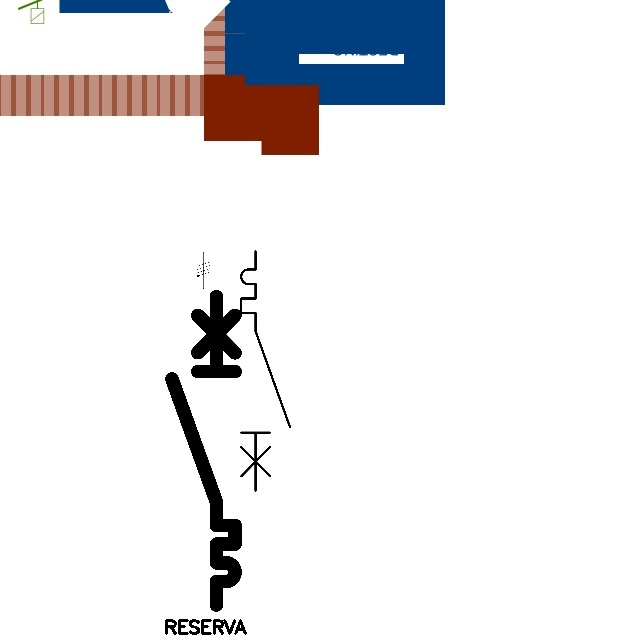interruptor_termomagnetico: (164, 288, 243, 612), (235, 245, 296, 497)
